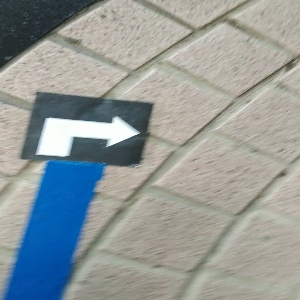right: (22, 93, 152, 167)
